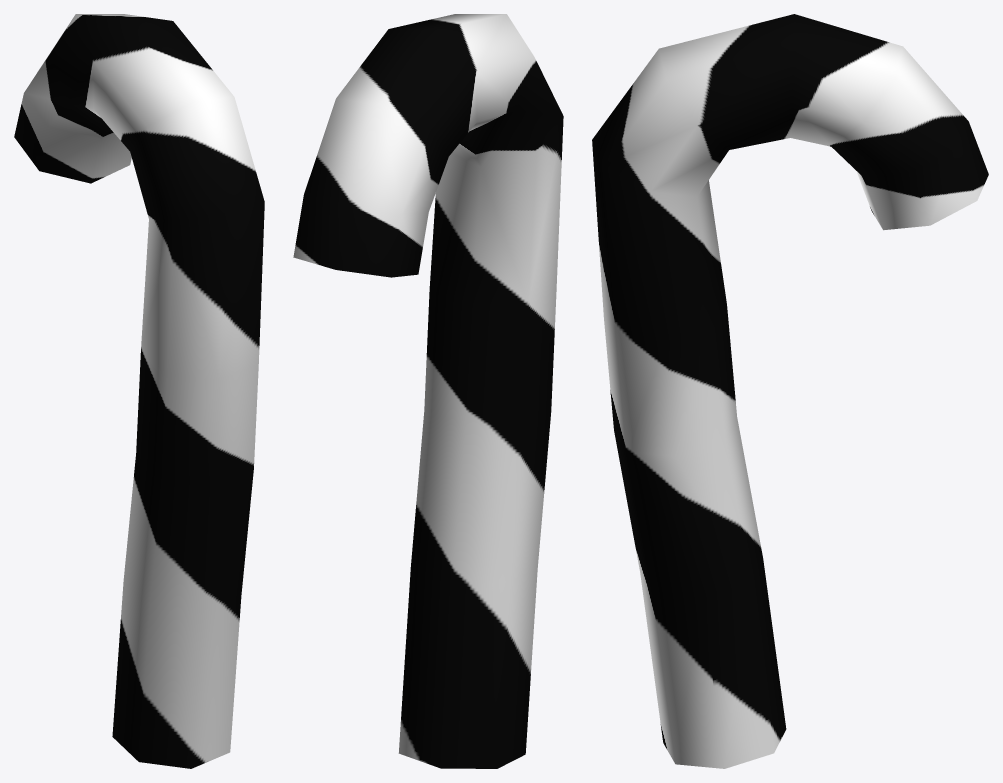
Rendered from candycane.fbx.
The picture shows the model from 3 angles, left to right: view 1: azimuth 30°, elevation 25°; view 2: azimuth 150°, elevation 25°; view 3: azimuth 270°, elevation 25°; orthographic projection. The views are drawn at different scales.
Parts seen in each view (by area): view 1: candycane; view 2: candycane; view 3: candycane.
Boxes of the visible parts, left/top/right/bottom form: candycane: left=14, top=14, right=264, bottom=768; candycane: left=293, top=14, right=563, bottom=768; candycane: left=592, top=14, right=988, bottom=768.
Bounding box in the file's own units: 3.09 × 20.55 × 10.14.
Materials: 1 (1 with a texture image).
